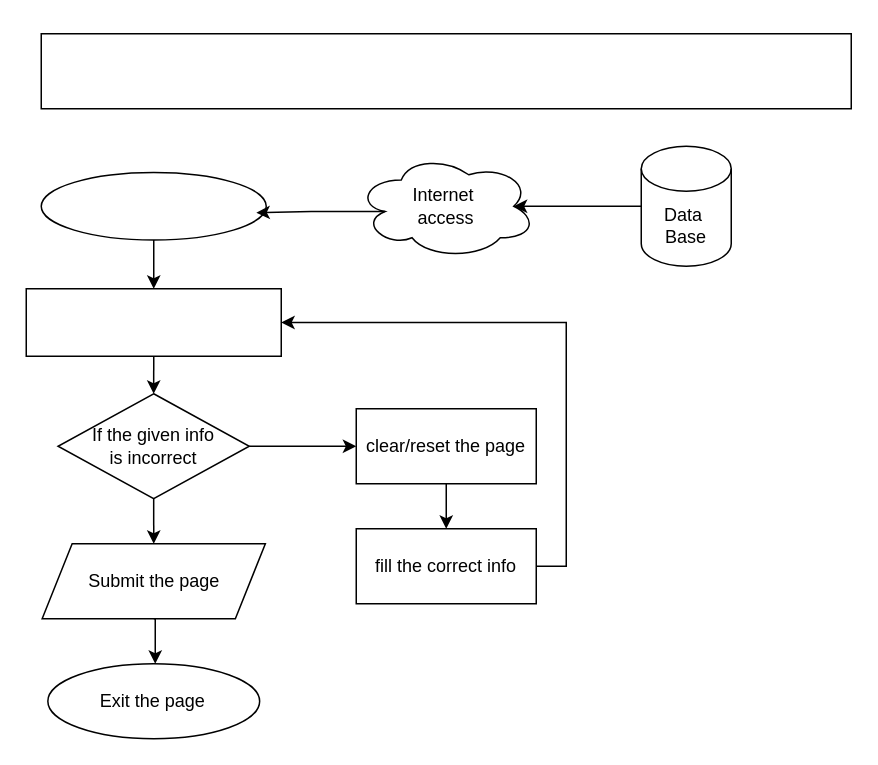
Image size: 878x765. Some labels were removed from this diagram. Each missing label, with the centre of its shape:
"Enter the required information" goes at (x=153, y=321).
"Login to the web application" goes at (x=153, y=205).
"web application project" goes at (x=445, y=70).
